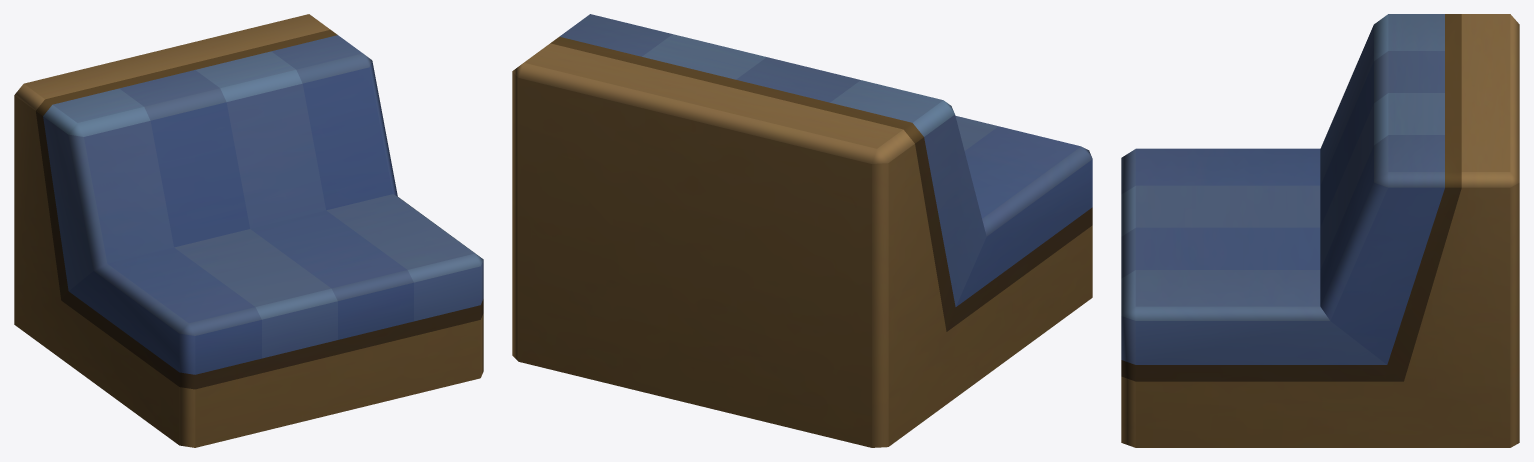
The model's file is chair_roof_x2_blue.fbx.
3 views of the same model, side by side, from view 1: azimuth 30°, elevation 25°; view 2: azimuth 150°, elevation 25°; view 3: azimuth 270°, elevation 25° (orthographic). The views are drawn at different scales.
Visible parts, largest first — view 1: chair_roof_x2_blue; view 2: chair_roof_x2_blue; view 3: chair_roof_x2_blue.
Boxes of the visible parts, x1,y1,x2,y2 form: chair_roof_x2_blue: [14, 14, 483, 447]; chair_roof_x2_blue: [512, 14, 1092, 447]; chair_roof_x2_blue: [1121, 14, 1519, 447].
Bounding box in the file's own units: 100 × 75 × 100.
